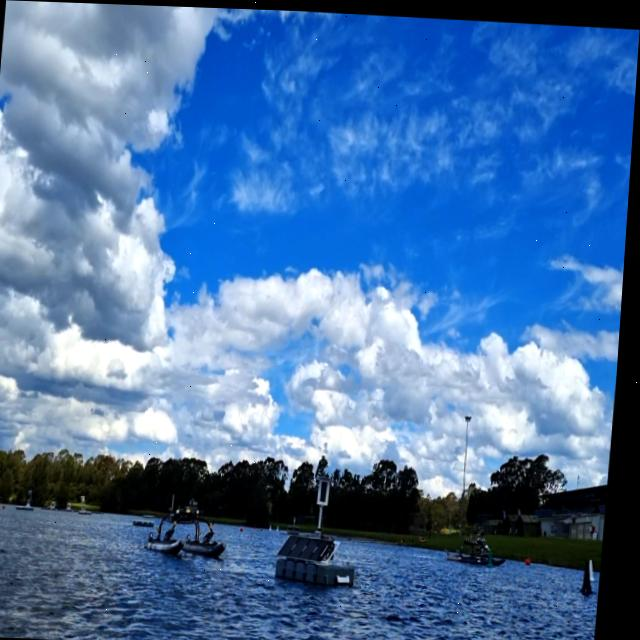led: (325, 478, 334, 500)
